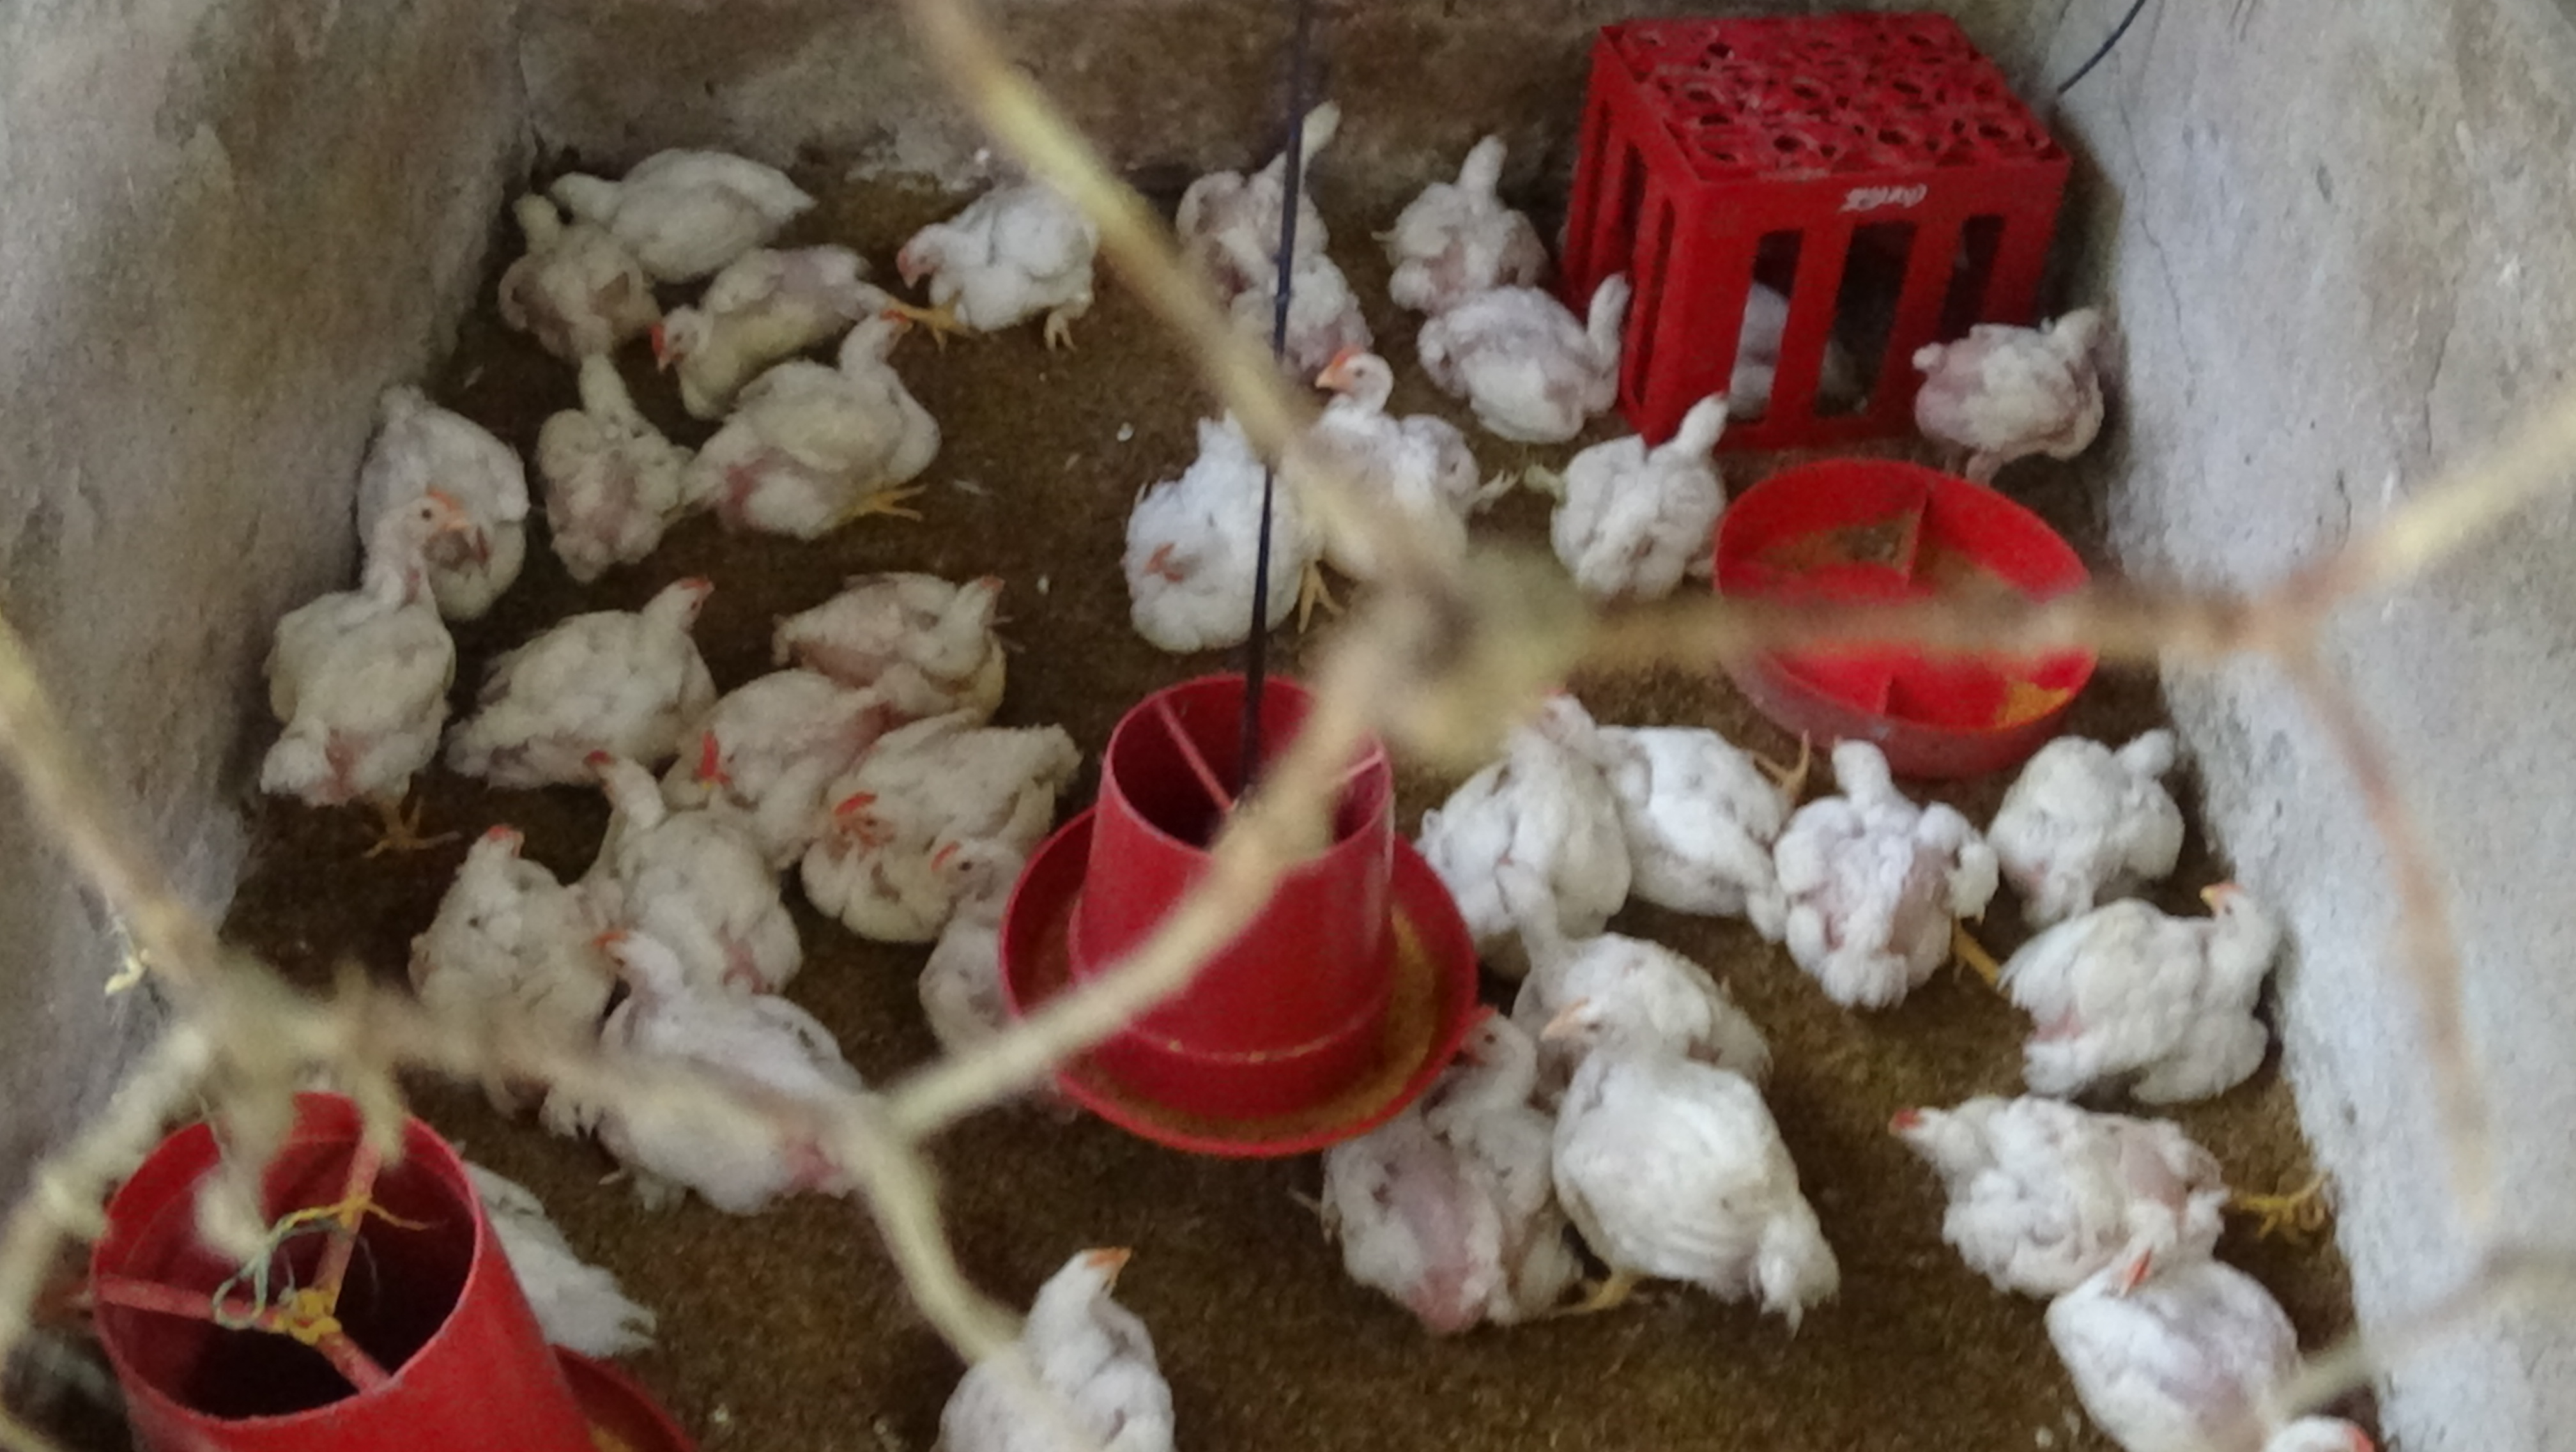Pollos: (1527, 997, 1845, 1335), (1875, 1062, 2233, 1291), (255, 492, 474, 850), (911, 1220, 1205, 1452), (1111, 402, 1332, 657), (1783, 721, 1980, 1002), (2026, 877, 2273, 1094), (715, 306, 932, 545), (2066, 1261, 2337, 1452), (1530, 395, 1757, 616), (1879, 296, 2120, 499), (1323, 1084, 1495, 1340), (409, 822, 580, 1068), (1999, 703, 2208, 901), (886, 142, 1093, 340), (554, 124, 819, 271), (596, 919, 778, 1128), (1445, 271, 1667, 443), (1187, 71, 1369, 274), (345, 384, 534, 572), (522, 563, 724, 731), (1293, 349, 1476, 533), (1380, 108, 1541, 310), (529, 354, 692, 551), (833, 561, 1033, 699), (499, 189, 655, 347), (1454, 843, 1610, 992), (633, 264, 780, 404), (559, 733, 708, 868), (909, 836, 1039, 974), (1532, 648, 1651, 772), (823, 765, 922, 912), (1442, 979, 1536, 1133), (681, 710, 812, 806)
